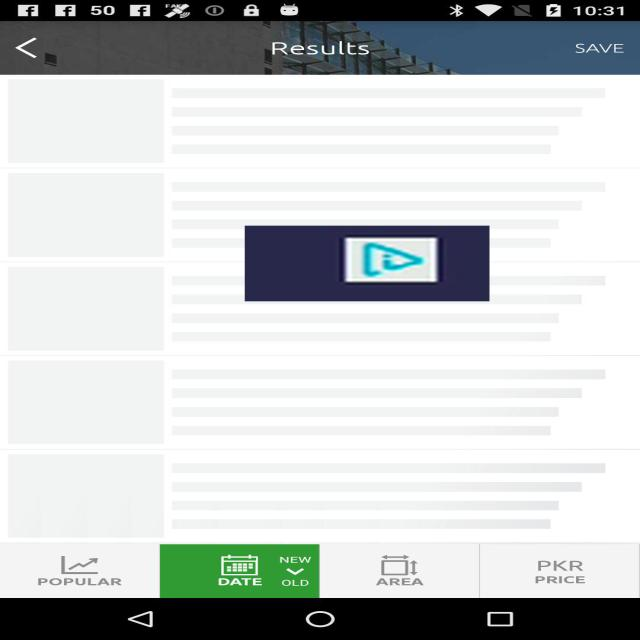sneaking: (245, 226, 489, 301)
